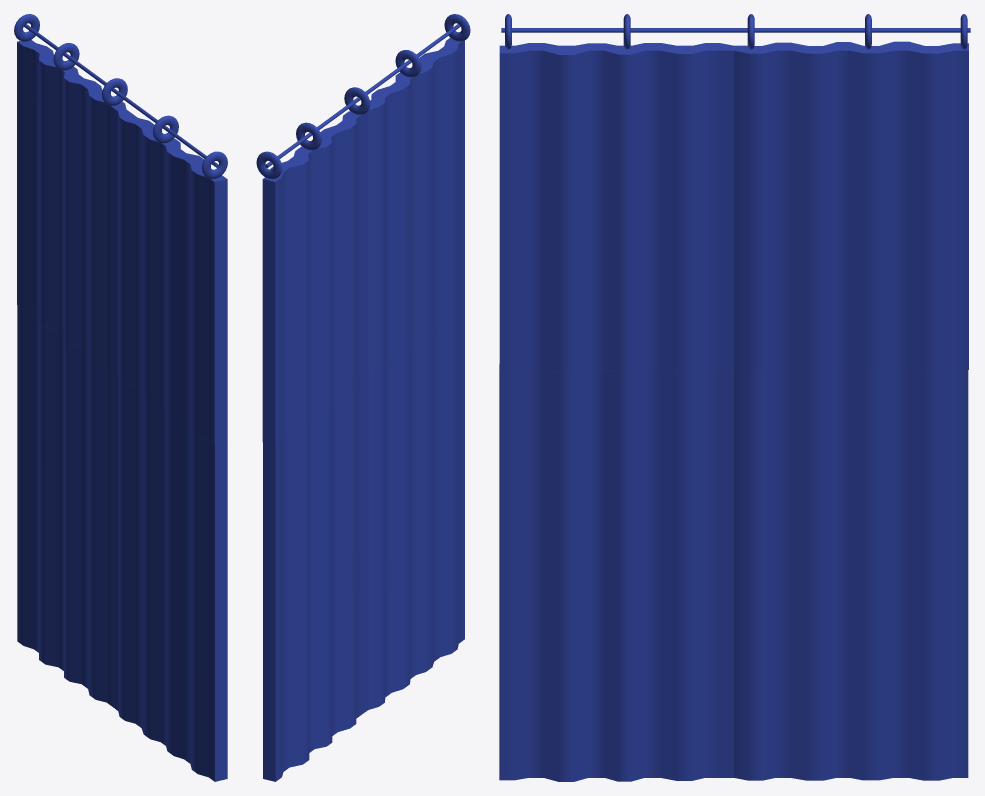
The model's file is Cortina.obj.
3 views of the same model, side by side, from view 1: azimuth 30°, elevation 25°; view 2: azimuth 150°, elevation 25°; view 3: azimuth 270°, elevation 25° (orthographic). The views are drawn at different scales.
Parts seen in each view (by area): view 1: Cortina:pasted__pasted__pasted__pasted__pasted__pasted__pasted__; view 2: Cortina:pasted__pasted__pasted__pasted__pasted__pasted__pasted__; view 3: Cortina:pasted__pasted__pasted__pasted__pasted__pasted__pasted__.
Part boxes in pixels (x1,y1,x2,y2): Cortina:pasted__pasted__pasted__pasted__pasted__pasted__pasted__: (14, 14, 227, 781); Cortina:pasted__pasted__pasted__pasted__pasted__pasted__pasted__: (256, 14, 470, 781); Cortina:pasted__pasted__pasted__pasted__pasted__pasted__pasted__: (499, 14, 970, 781).
Bounding box in the file's own units: 0.1529 × 3.57 × 2.01.
1 material, 1 textured.
